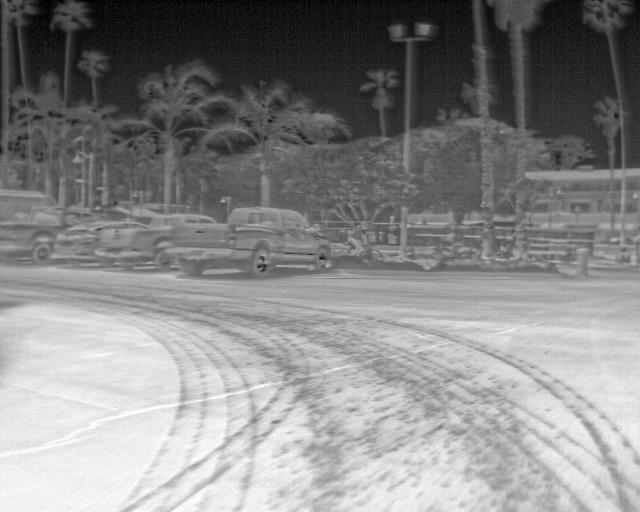bicycle: (163, 205, 330, 278), (93, 212, 218, 270), (52, 220, 147, 268), (0, 221, 63, 267)
empty: (347, 220, 369, 255)
